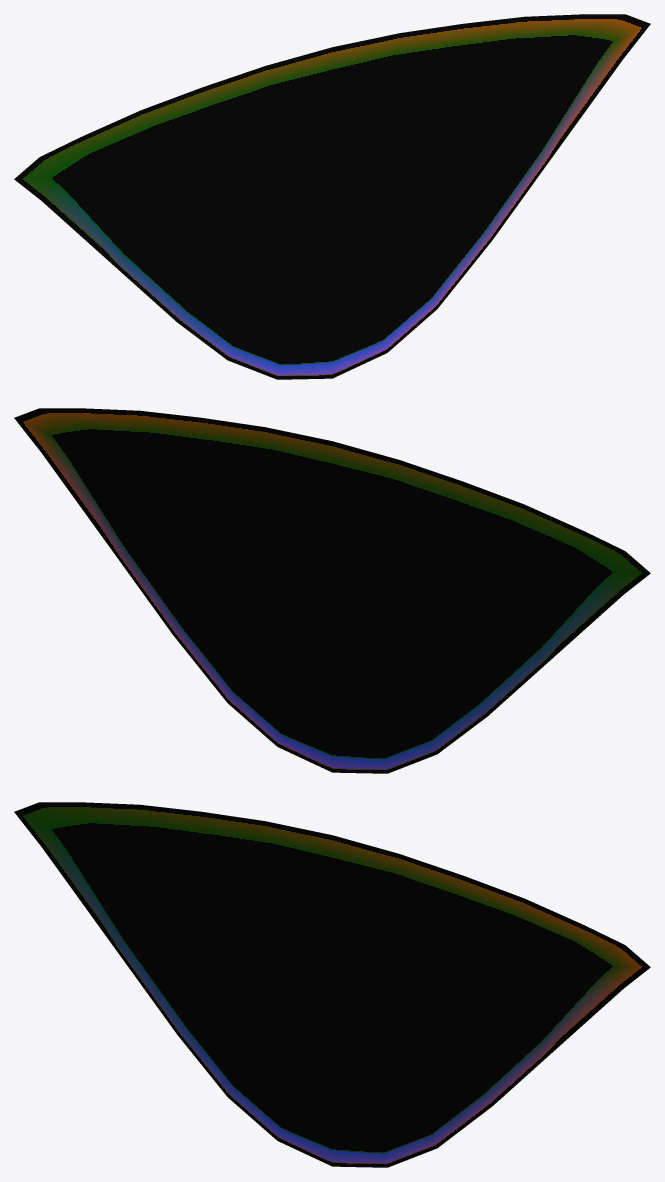
The model's file is MouthStickerDog1.gltf.
The picture shows the model from 3 angles, top to bottom: view 1: azimuth 30°, elevation 25°; view 2: azimuth 150°, elevation 25°; view 3: azimuth 330°, elevation 25°; orthographic projection.
Parts seen in each view (by area): view 1: Line006; view 2: Line006; view 3: Line006.
Part boxes in pixels (x1,y1,x2,y2): Line006: (14,14,650,379); Line006: (14,408,650,773); Line006: (14,802,650,1167).
Bounding box in the file's own units: 0.8686 × 0.4319 × 1.31e-07.
1 material, 1 textured.
